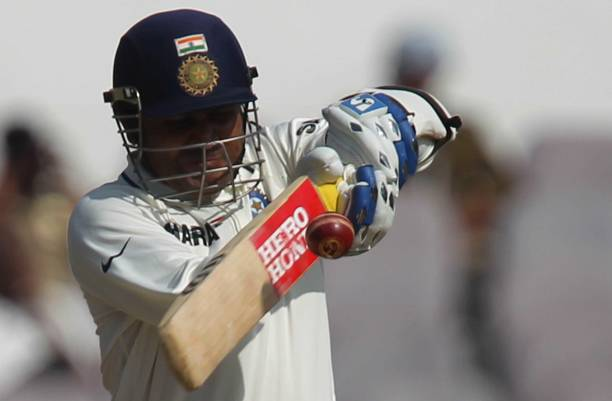bottom left: (141, 313, 180, 352)
bottom right: (172, 366, 206, 400)
top left: (293, 165, 320, 192)
